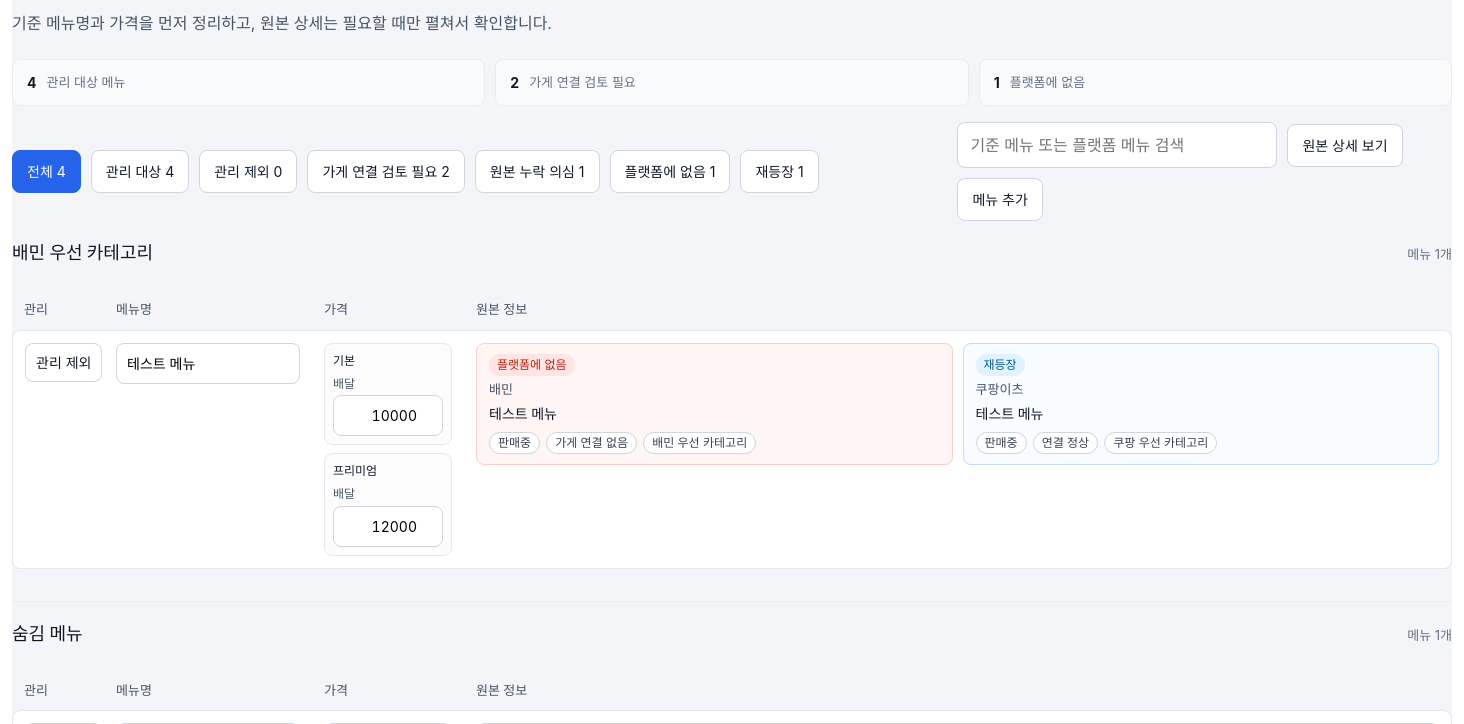
Scenario: MenuPage › shows option group summaries for linked platform menus
The image size is (1464, 724).
Click the button "원본 상세 보기" at (1345, 145), box [1287,124,1403,166]
(page scrolled)
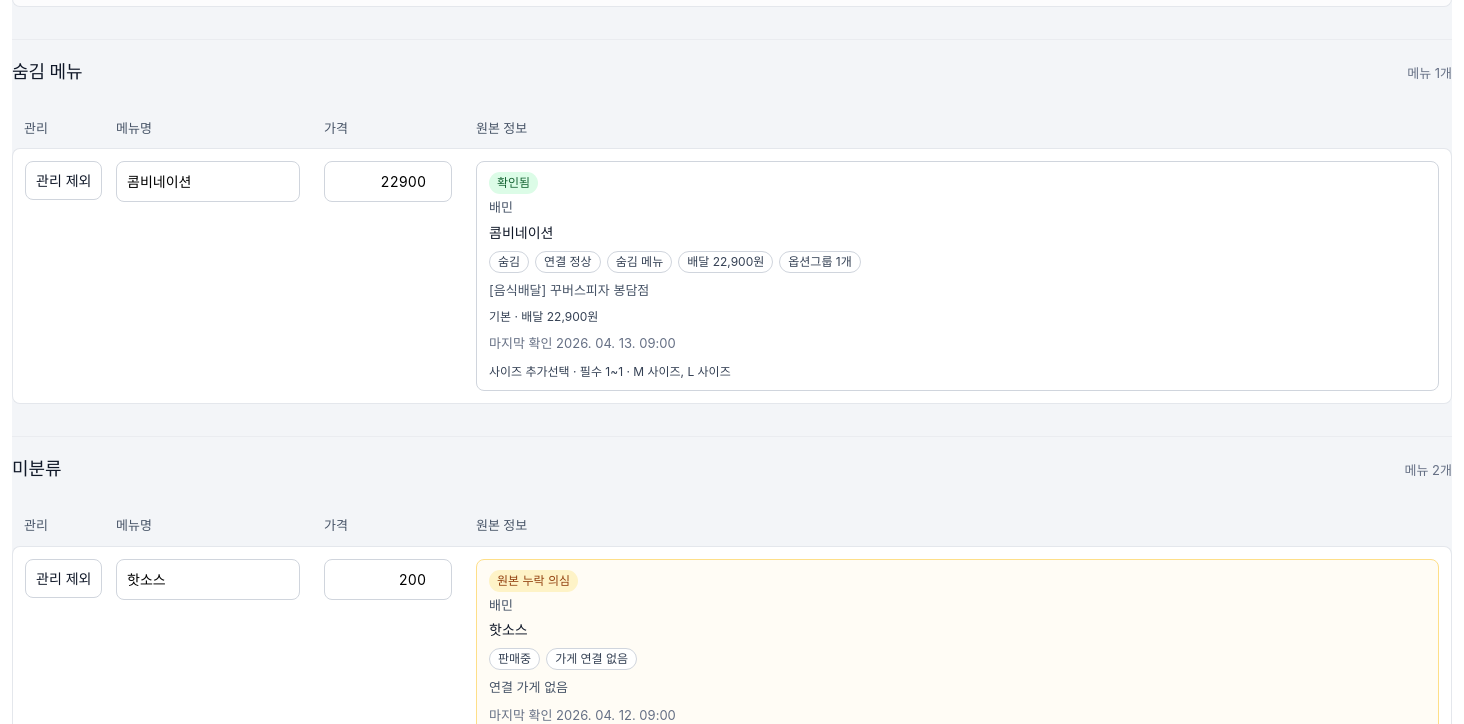
Expected: the text "옵션그룹 1개" is shown, [779,251,861,273]
Expected: the text "사이즈 추가선택 · 필수 1~1 · M 사이즈, L 사이즈" is shown, [489,364,731,379]
